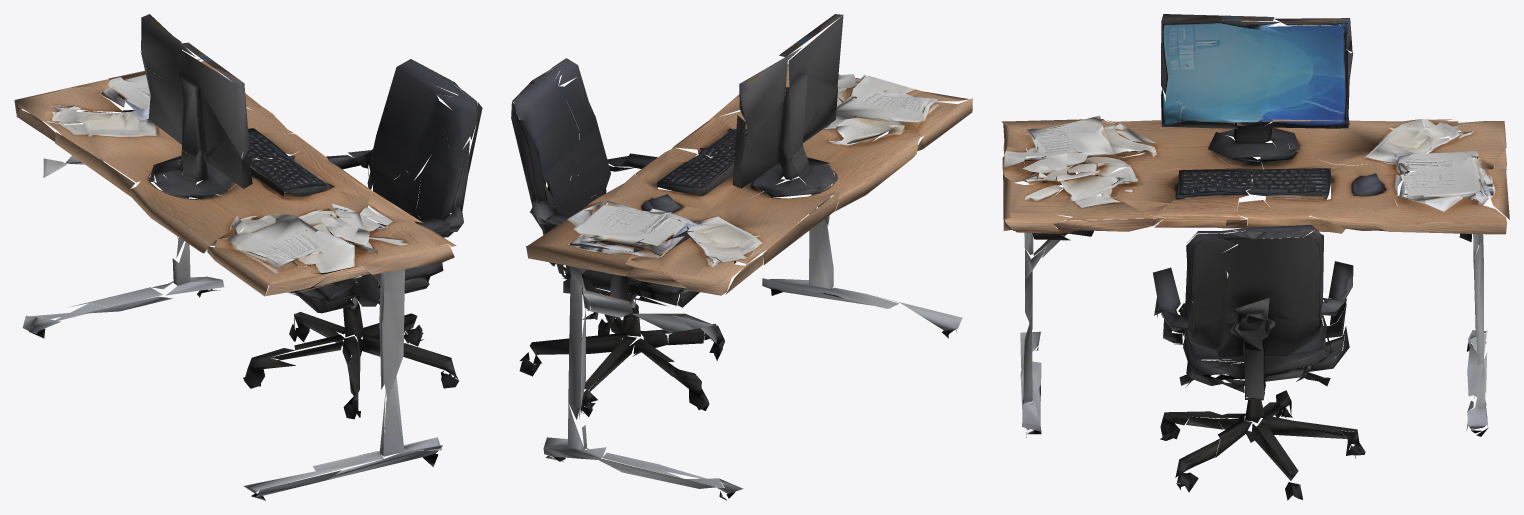
Rendered from office_desk.glb.
3 views of the same model, side by side, from view 1: azimuth 30°, elevation 25°; view 2: azimuth 150°, elevation 25°; view 3: azimuth 270°, elevation 25° (orthographic).
Parts seen in each view (by area): view 1: tripo_node_bae425b9-7b15-4f0f-87e5-f0ce0b7de6ae; view 2: tripo_node_bae425b9-7b15-4f0f-87e5-f0ce0b7de6ae; view 3: tripo_node_bae425b9-7b15-4f0f-87e5-f0ce0b7de6ae.
Boxes of the visible parts, <box> form: tripo_node_bae425b9-7b15-4f0f-87e5-f0ce0b7de6ae: <box>14,14,482,500</box>; tripo_node_bae425b9-7b15-4f0f-87e5-f0ce0b7de6ae: <box>511,14,972,500</box>; tripo_node_bae425b9-7b15-4f0f-87e5-f0ce0b7de6ae: <box>1001,14,1509,500</box>.
Size of the model in its own units: 0.698 by 0.7612 by 0.9544.
1 material, 1 textured.
